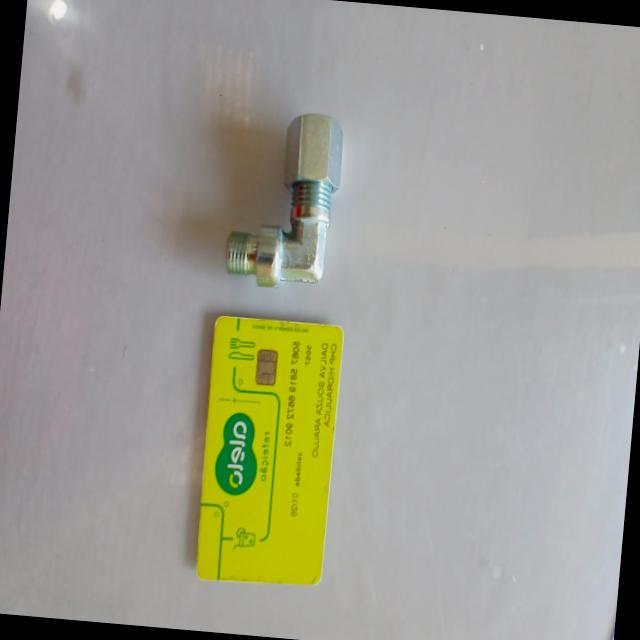cartao: (193, 315, 344, 590)
rosca_externa: (222, 108, 344, 293)
